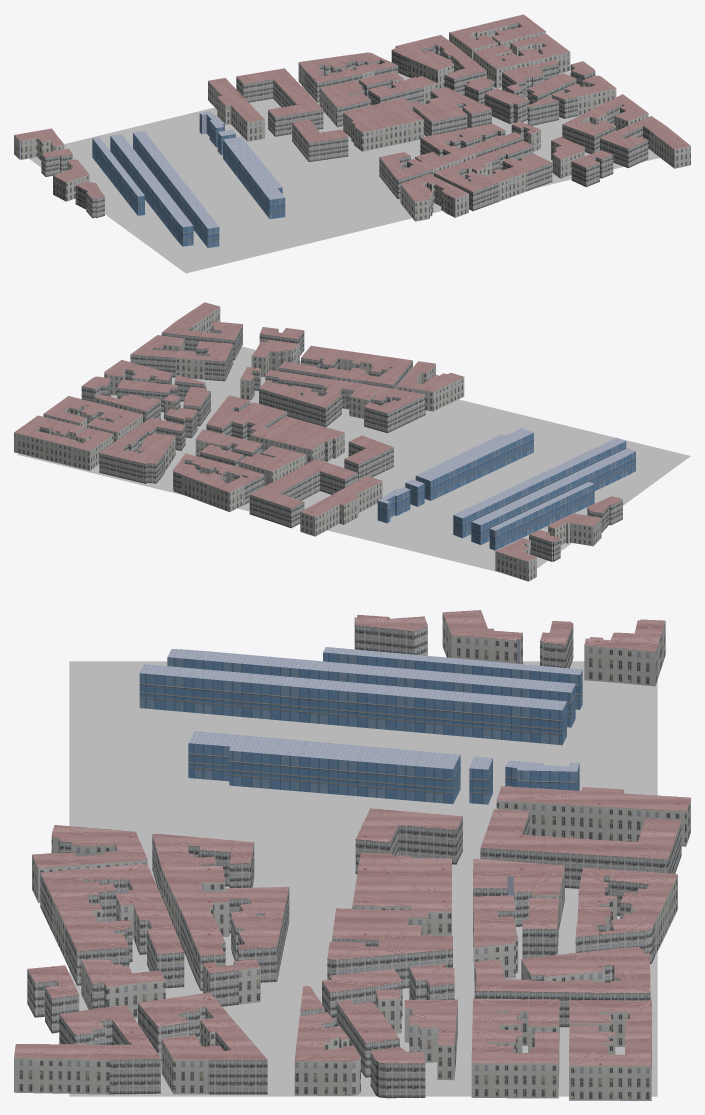
The model's file is athensTrainStation.fbx.
3 views of the same model, one above another, from view 1: azimuth 30°, elevation 25°; view 2: azimuth 150°, elevation 25°; view 3: azimuth 270°, elevation 25° (orthographic). The views are drawn at different scales.
Visible parts, largest first — view 1: Areas:building, Roof, EXPORT_GOOGLE_SAT_WM; view 2: Areas:building, Roof, EXPORT_GOOGLE_SAT_WM; view 3: Areas:building, Roof, EXPORT_GOOGLE_SAT_WM.
Part boxes in pixels (x1,y1,x2,y2): Areas:building: [14, 23, 690, 247]; Roof: [14, 14, 690, 228]; EXPORT_GOOGLE_SAT_WM: [29, 71, 659, 273]; Areas:building: [14, 307, 635, 581]; Roof: [14, 302, 635, 561]; EXPORT_GOOGLE_SAT_WM: [17, 346, 690, 572]; Areas:building: [14, 613, 690, 1100]; Roof: [14, 610, 690, 1065]; EXPORT_GOOGLE_SAT_WM: [69, 661, 657, 1096].
Bounding box in the file's own units: 56076 × 2000 × 35183.
